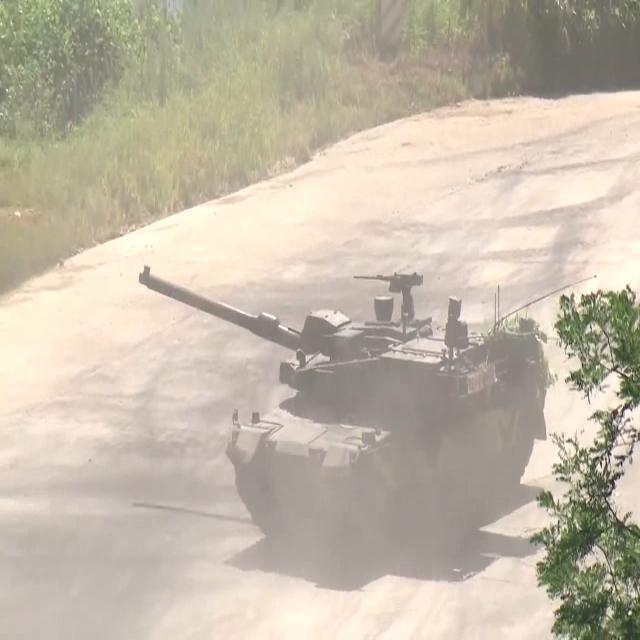korea tank: (138, 265, 552, 569)
